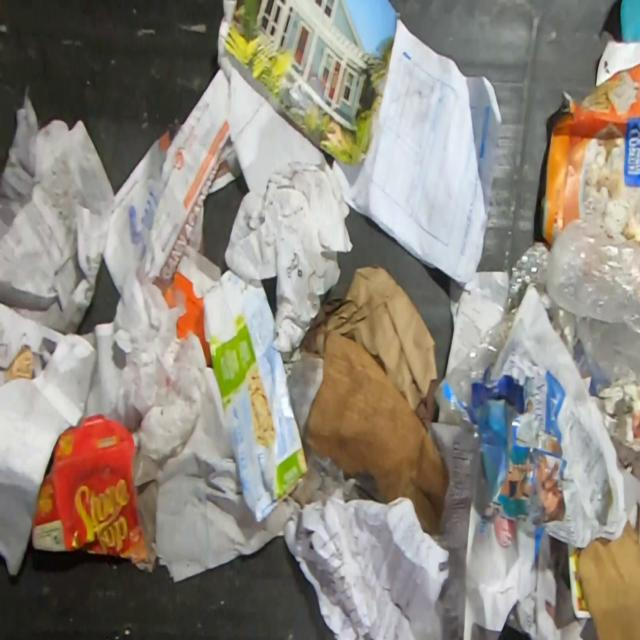cardboard: (304, 329, 448, 536), (442, 366, 567, 525), (539, 60, 640, 250), (30, 412, 152, 563), (577, 517, 640, 640)
rigid_plastic: (433, 239, 576, 428)
soft_plastic: (545, 218, 640, 381)
